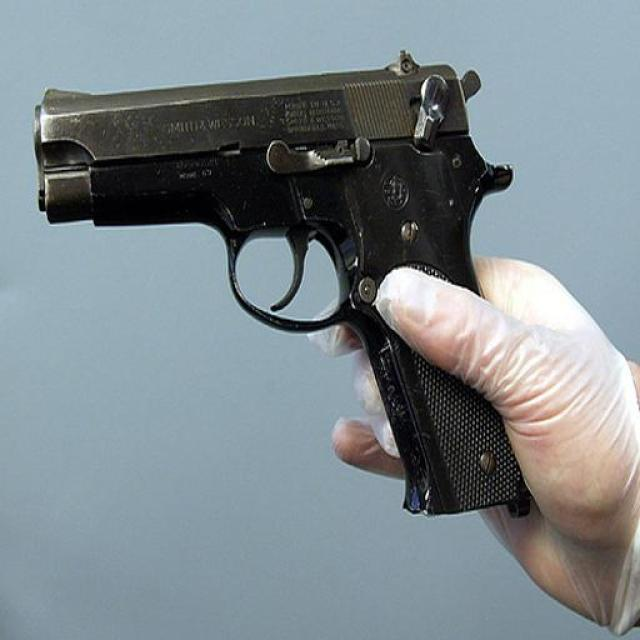pistol: (26, 44, 528, 514)
